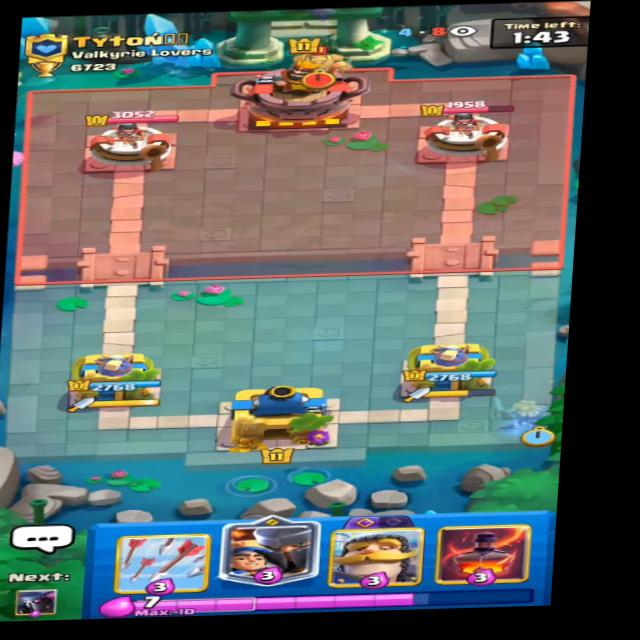knight: (283, 43, 360, 81)
